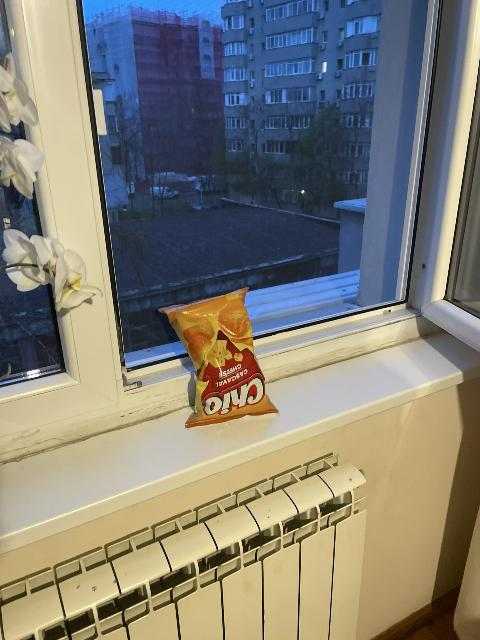Chio Cascaval 125g: (158, 288, 282, 428)
